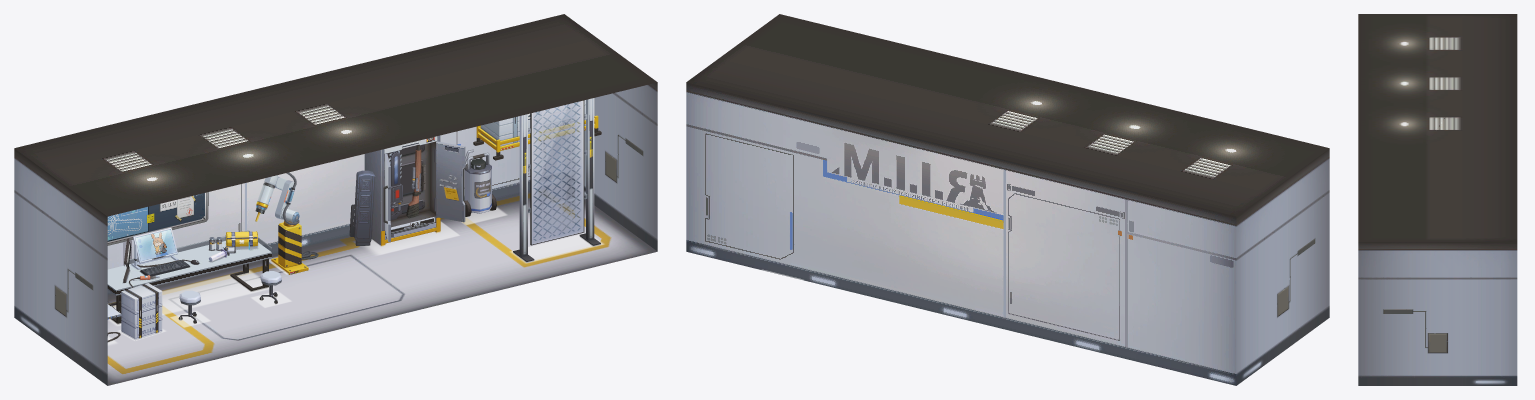
File: elite.glb
3 views of the same model, side by side, from view 1: azimuth 30°, elevation 25°; view 2: azimuth 150°, elevation 25°; view 3: azimuth 270°, elevation 25° (orthographic). The views are drawn at different scales.
Parts seen in each view (by area): view 1: ROOM_room, ROOM_floor, furni_elite_weaponCabinet_01, furni_elite_shadingBoard_02, furni_elite_desk_01, furni_elite_shadingBoard_01, furni_elite_board_01, furni_elite_roboticArm_01, shadow.002, furni_elite_cabinet_01, furni_elite_suspensionCrane_01, furni_elite_cleaningBucket_01 (+7 smaller); view 2: ROOM_room, ROOM_LDoor; view 3: ROOM_room, ROOM_RDoor.
Boxes of the visible parts, x1=… form: ROOM_room: x1=14, y1=14, x2=657, y2=385; ROOM_floor: x1=107, y1=184, x2=657, y2=385; furni_elite_weaponCabinet_01: x1=349, y1=135, x2=465, y2=246; furni_elite_shadingBoard_02: x1=531, y1=100, x2=583, y2=244; furni_elite_desk_01: x1=107, y1=227, x2=271, y2=324; furni_elite_shadingBoard_01: x1=513, y1=98, x2=600, y2=262; furni_elite_board_01: x1=107, y1=192, x2=208, y2=245; furni_elite_roboticArm_01: x1=255, y1=172, x2=318, y2=274; shadow.002: x1=108, y1=270, x2=273, y2=325; furni_elite_cabinet_01: x1=121, y1=283, x2=162, y2=339; furni_elite_suspensionCrane_01: x1=473, y1=100, x2=601, y2=160; furni_elite_cleaningBucket_01: x1=464, y1=149, x2=496, y2=216; ROOM_room: x1=686, y1=14, x2=1329, y2=385; ROOM_LDoor: x1=1297, y1=251, x2=1315, y2=341; ROOM_room: x1=1358, y1=14, x2=1517, y2=385; ROOM_RDoor: x1=1382, y1=320, x2=1414, y2=385.
Bounding box in the file's own units: 7.48 × 2.2 × 2.25.
Materials: 7 (7 with a texture image).
